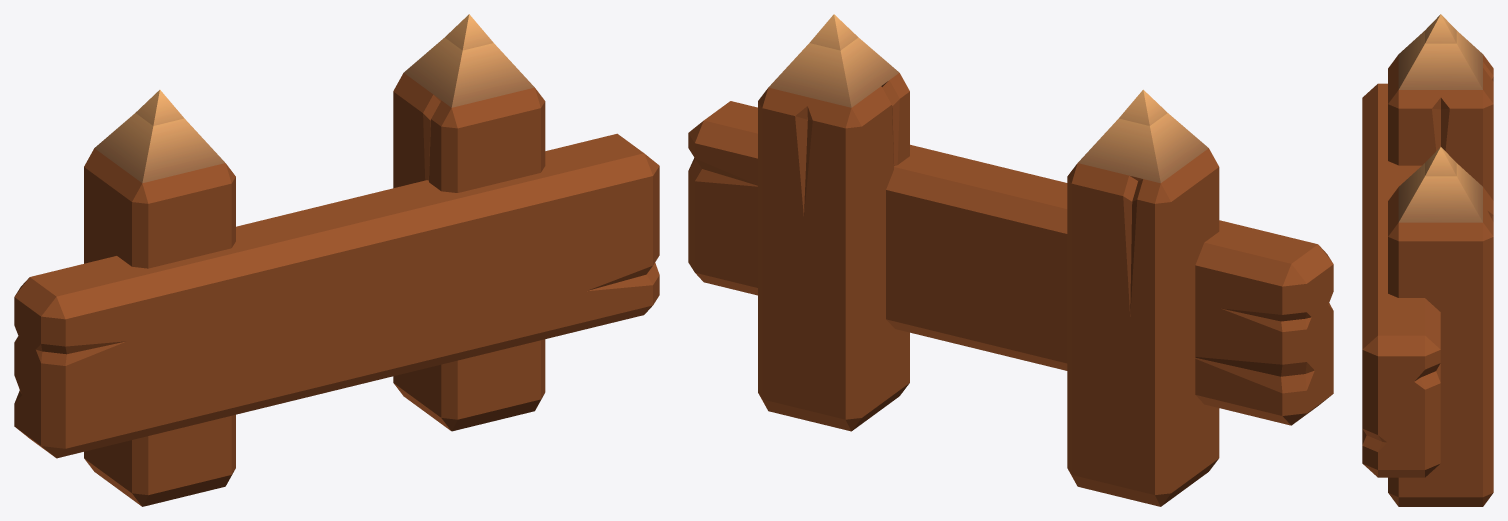
File: m_dec_dung_fenceSmallA.fbx
The picture shows the model from 3 angles, left to right: view 1: azimuth 30°, elevation 25°; view 2: azimuth 150°, elevation 25°; view 3: azimuth 270°, elevation 25°; orthographic projection. The views are drawn at different scales.
Visible parts, largest first — view 1: m_dec_dung_fenceSmallA; view 2: m_dec_dung_fenceSmallA; view 3: m_dec_dung_fenceSmallA.
Part boxes in pixels (x1,y1,x2,y2): m_dec_dung_fenceSmallA: (14, 14, 659, 506); m_dec_dung_fenceSmallA: (688, 14, 1333, 506); m_dec_dung_fenceSmallA: (1362, 14, 1493, 506).
Bounding box in the file's own units: 4 × 2.41 × 0.837.
